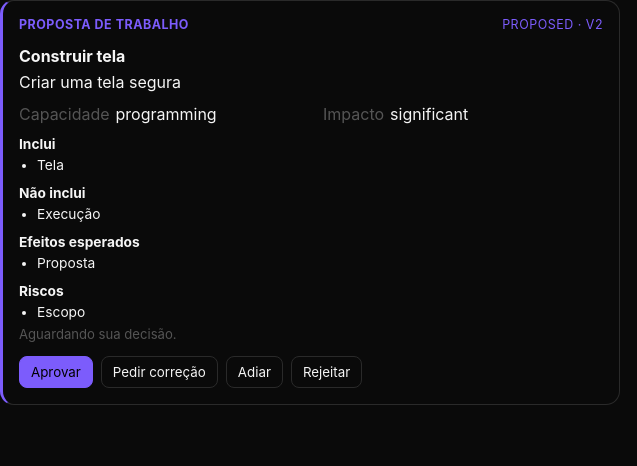
Test case: WorkProposalCard › decisão sobre versão obsoleta é recusada com mensagem e reconcilia para a versão vigente
Click the button "Aprovar" at coordinates (56, 372), box [19,356,93,388]
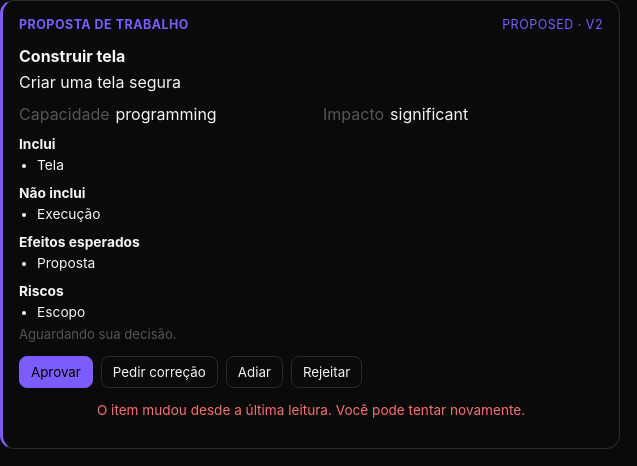
expect the message shows "O item mudou desde a última leitura.": met, box [97,402,332,418]
